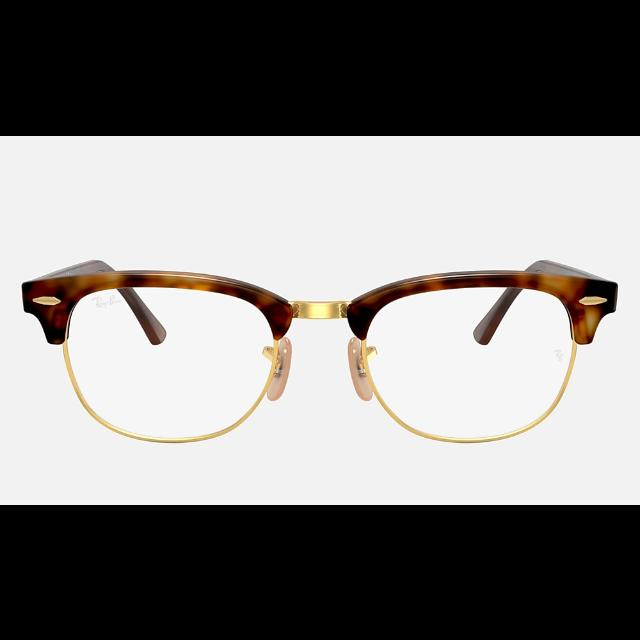glasses: (20, 257, 618, 441)
